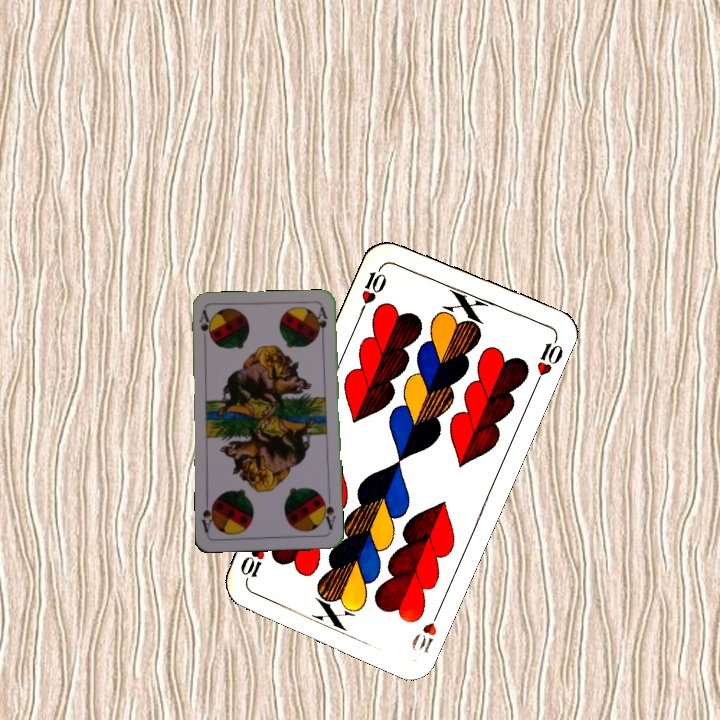H10: (407, 601, 445, 656), (356, 260, 390, 316)
SA: (318, 493, 338, 532), (195, 307, 214, 343)
